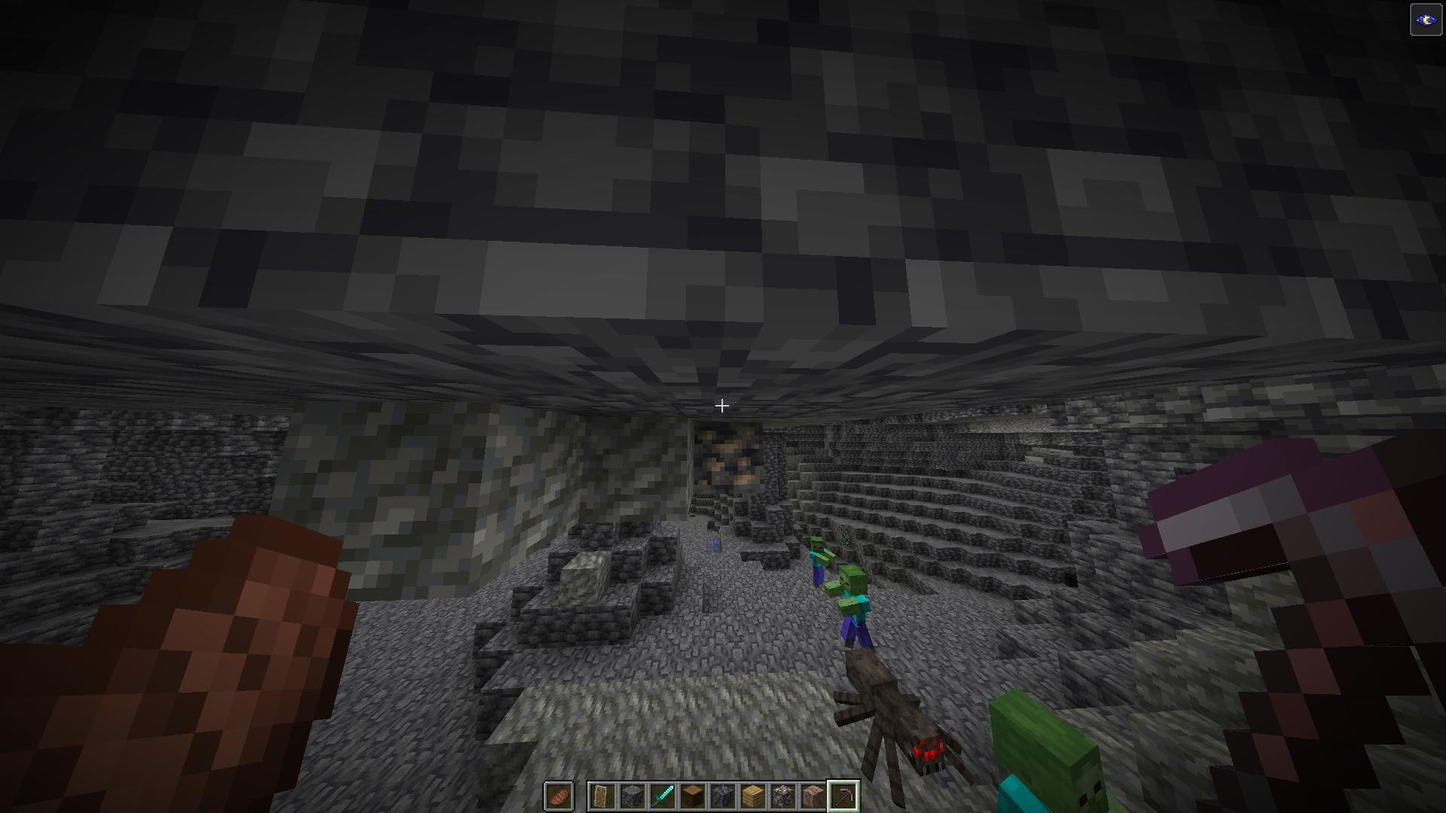iron ore: (692, 421, 763, 495)
